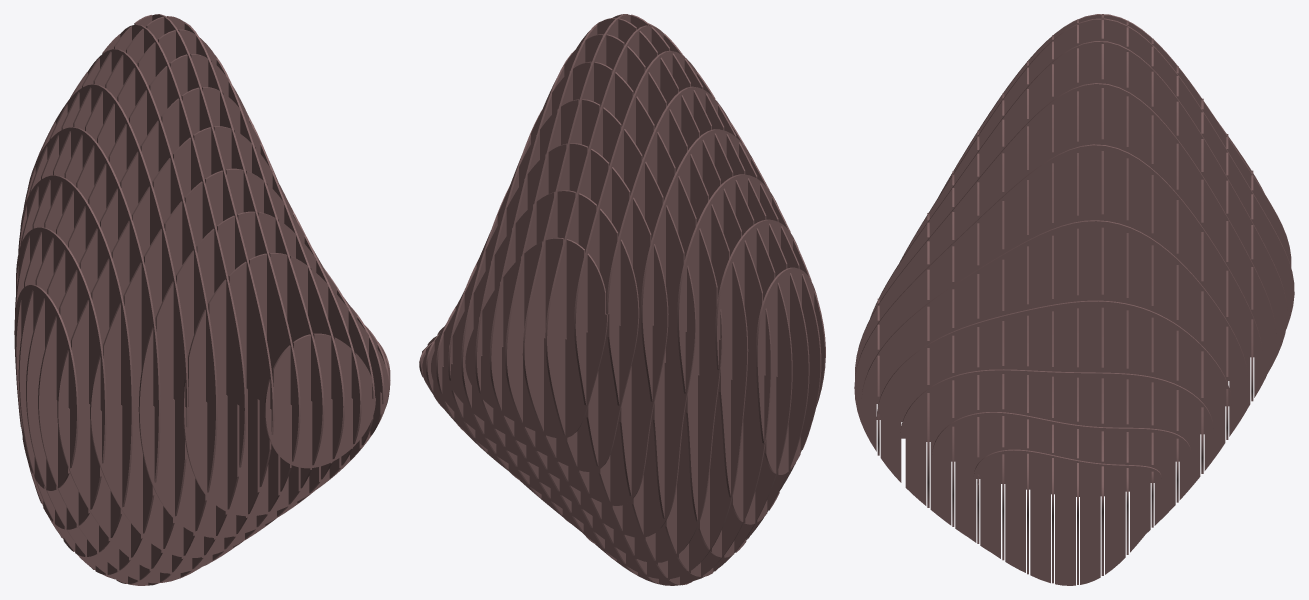
The model's file is Waffle Definitions.glb.
3 views of the same model, side by side, from view 1: azimuth 30°, elevation 25°; view 2: azimuth 150°, elevation 25°; view 3: azimuth 270°, elevation 25° (orthographic). The views are drawn at different scales.
Parts seen in each view (by area): view 1: 2Waffle_Definitions; view 2: 2Waffle_Definitions; view 3: 2Waffle_Definitions.
Part boxes in pixels (left/top/right/bottom): 2Waffle_Definitions: left=14, top=14, right=390, bottom=585; 2Waffle_Definitions: left=419, top=14, right=825, bottom=585; 2Waffle_Definitions: left=854, top=14, right=1294, bottom=585.
Bounding box in the file's own units: 3.35 × 5 × 3.46.
